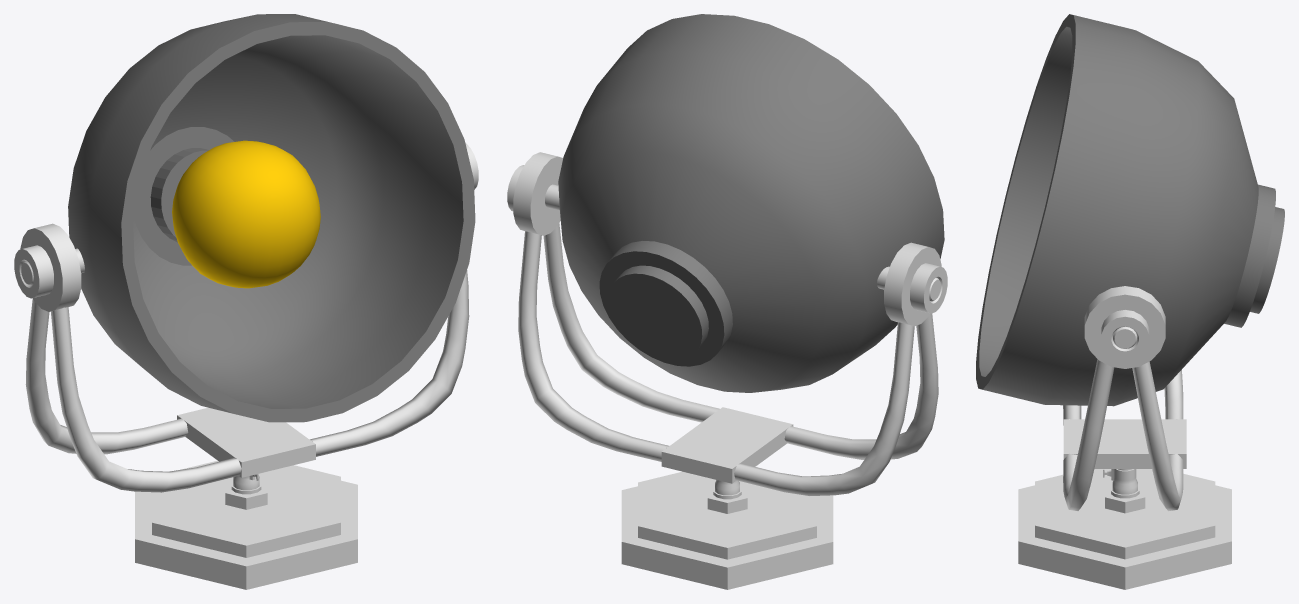
The model's file is SM_MuralGroundSpotLight_01.fbx.
3 views of the same model, side by side, from view 1: azimuth 30°, elevation 25°; view 2: azimuth 150°, elevation 25°; view 3: azimuth 270°, elevation 25° (orthographic). The views are drawn at different scales.
Visible parts, largest first — view 1: Object018, SM_LightAttach_005, Cylinder040; view 2: Object018, SM_LightAttach_005, Cylinder040; view 3: Object018, Cylinder040, SM_LightAttach_005.
Boxes of the visible parts, x1,y1,x2,y2 form: Object018: [68, 14, 475, 422]; SM_LightAttach_005: [14, 143, 478, 494]; Cylinder040: [135, 460, 357, 589]; Object018: [558, 14, 944, 392]; SM_LightAttach_005: [507, 152, 947, 499]; Cylinder040: [621, 471, 833, 589]; Object018: [976, 14, 1284, 406]; Cylinder040: [1018, 469, 1231, 589]; SM_LightAttach_005: [1063, 286, 1186, 511].
Size of the model in its own units: 59.09 by 67.81 by 37.6.
